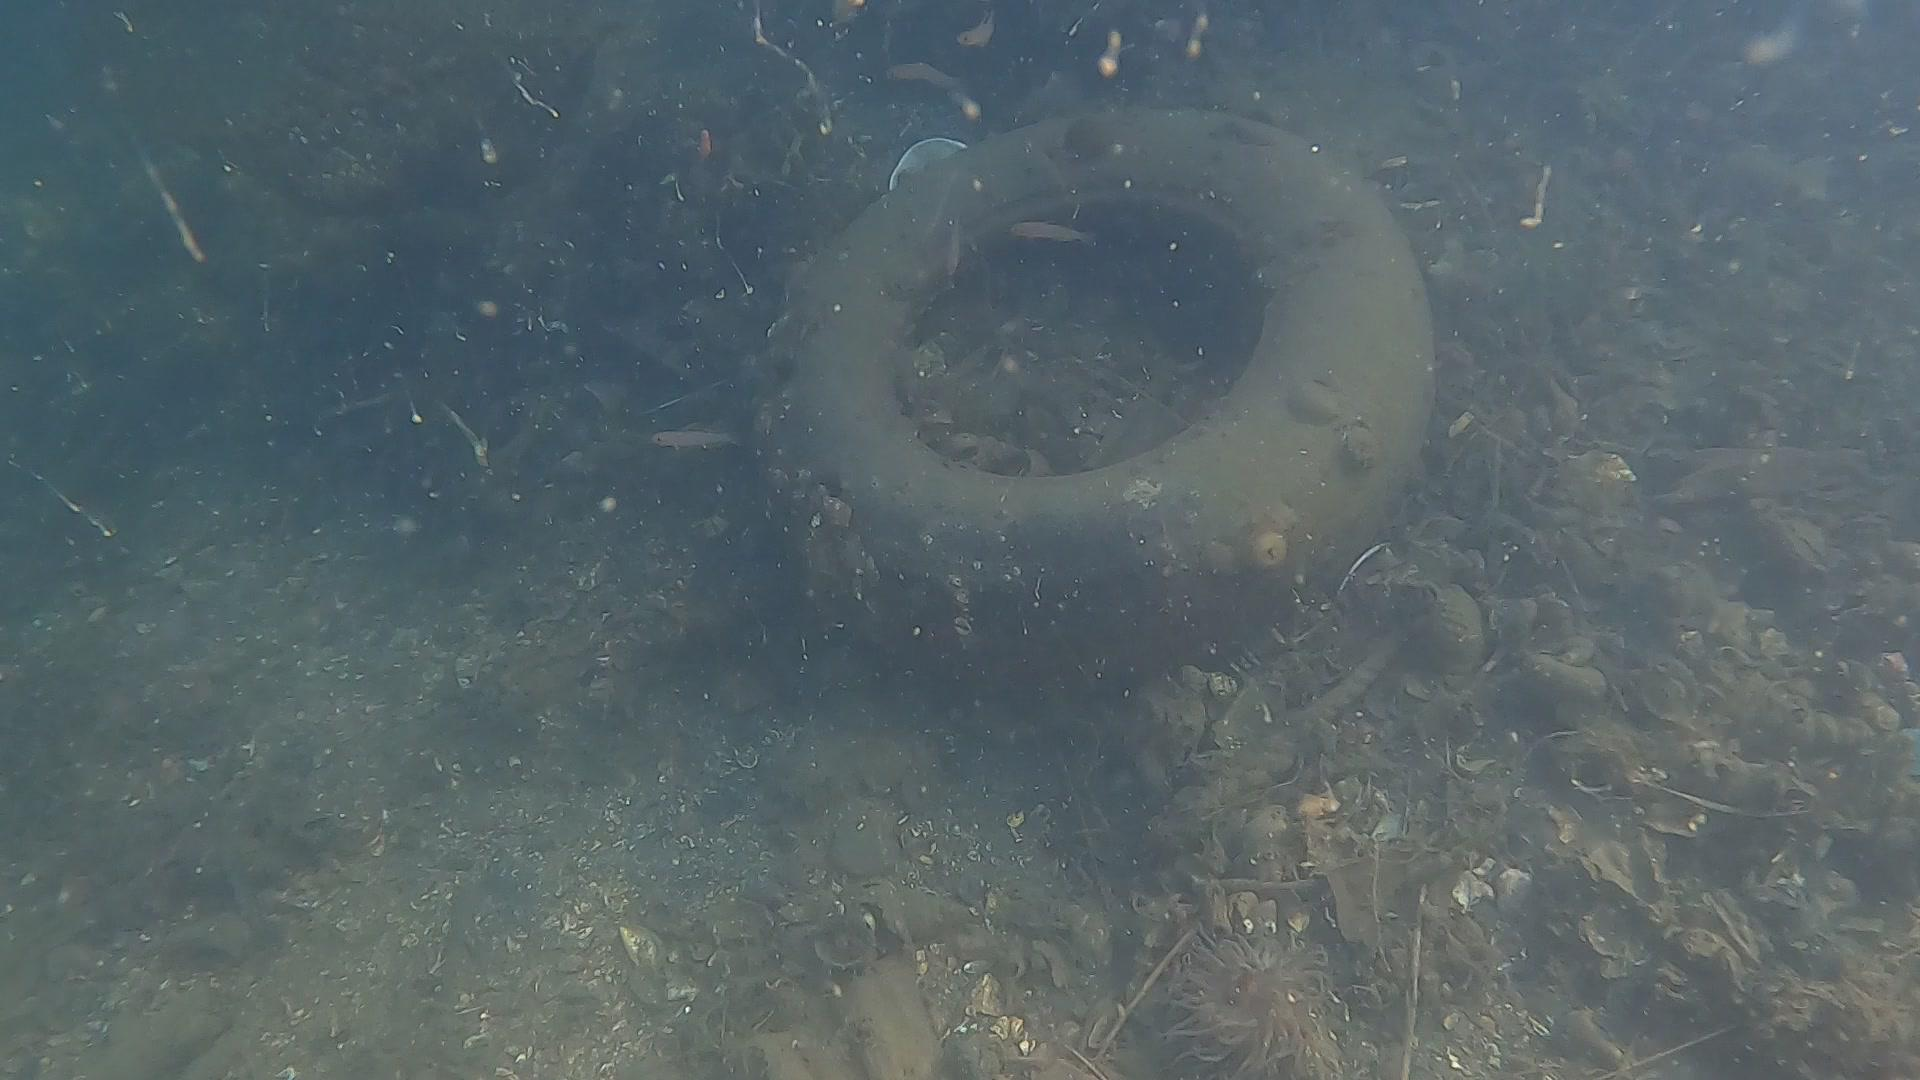tire: (789, 103, 1425, 688)
